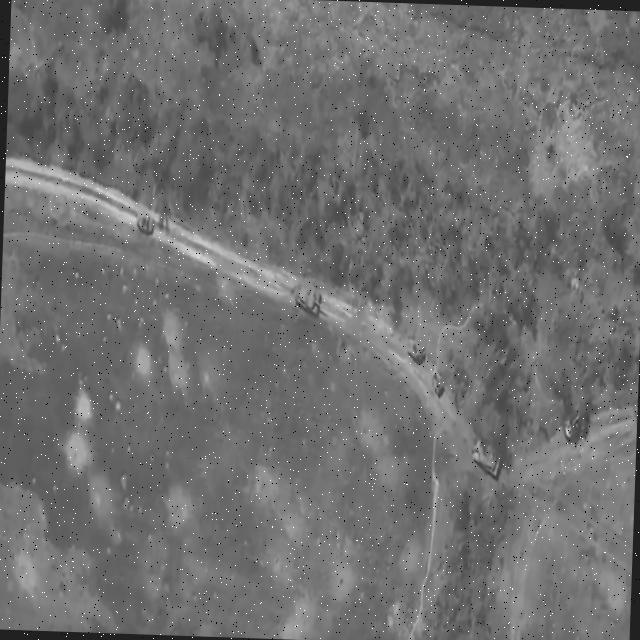MBT: (468, 429, 504, 484), (293, 280, 331, 319)
Vehicle: (563, 411, 588, 443), (406, 336, 426, 365), (430, 365, 447, 399), (135, 212, 157, 238)
